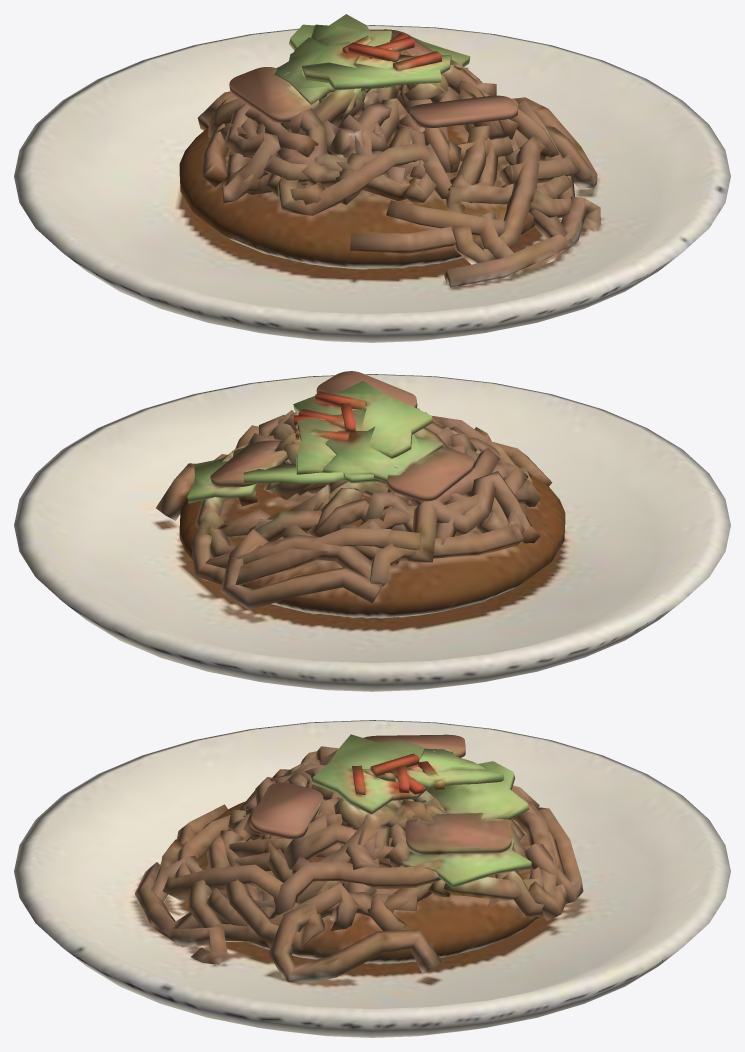
Rendered from yakisoba_b1.glb.
3 views of the same model, one above another, from view 1: azimuth 30°, elevation 25°; view 2: azimuth 150°, elevation 25°; view 3: azimuth 270°, elevation 25° (orthographic).
Visible parts, largest first — view 1: prop_yakisoba_b1_felt; view 2: prop_yakisoba_b1_felt; view 3: prop_yakisoba_b1_felt.
Part boxes in pixels (box(x1,y1,x2,y2)): prop_yakisoba_b1_felt: box(14, 14, 730, 342); prop_yakisoba_b1_felt: box(14, 371, 730, 691); prop_yakisoba_b1_felt: box(14, 720, 730, 1037).
Size of the model in its own units: 0.306 by 0.0817 by 0.306.
Materials: 1 (1 with a texture image).
